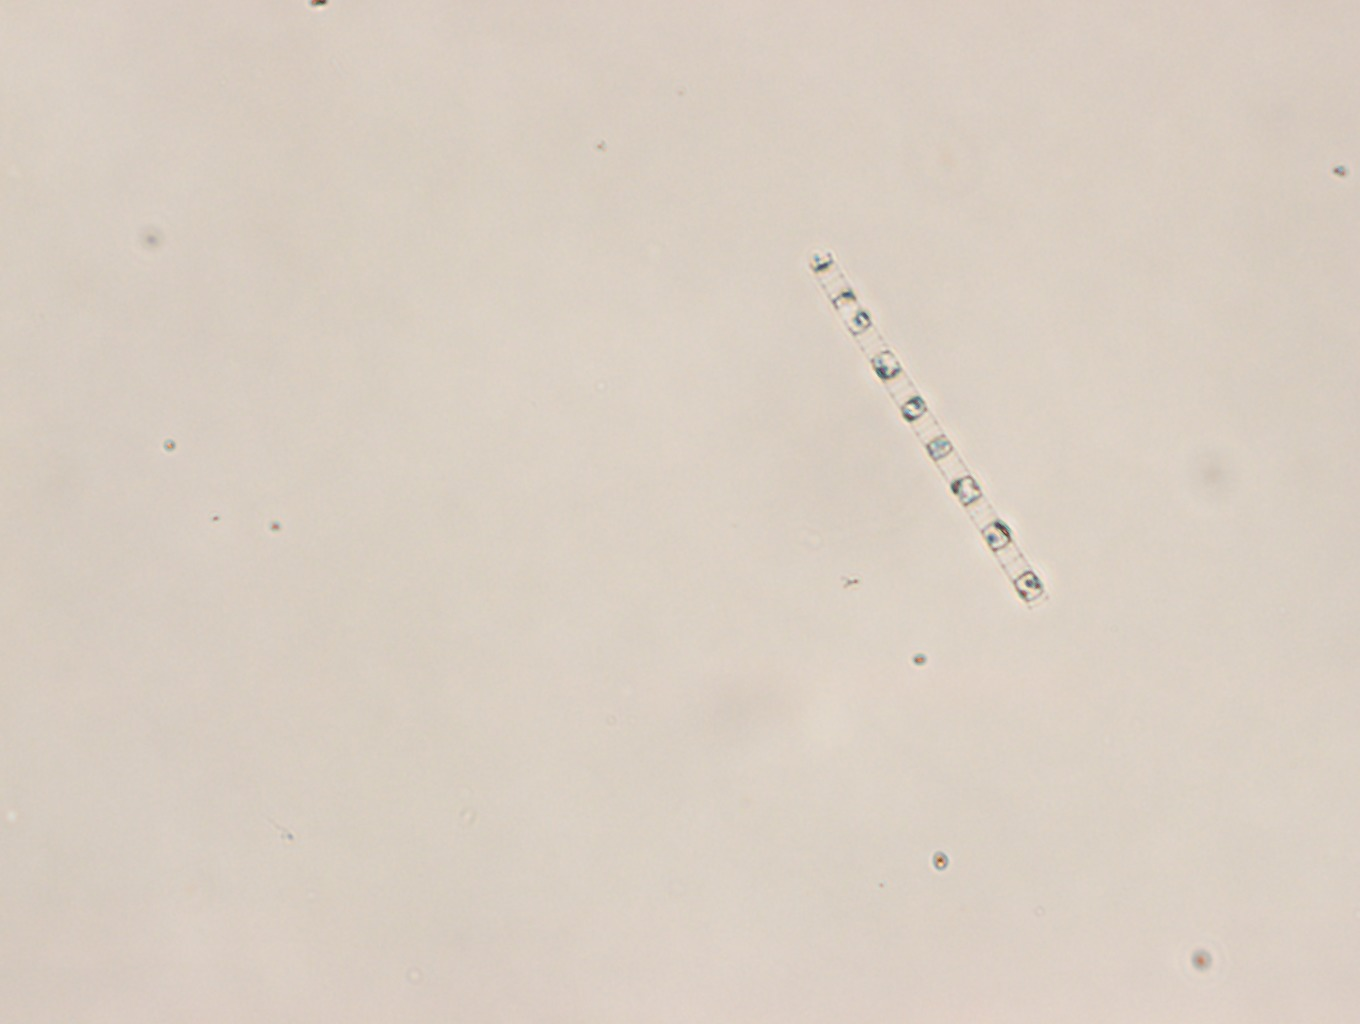skeletonema: (800, 247, 1055, 613)
